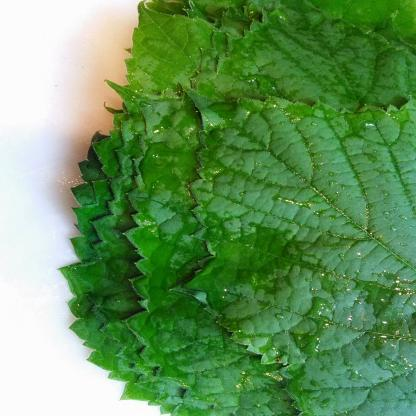grape leaf: (179, 86, 416, 415)
